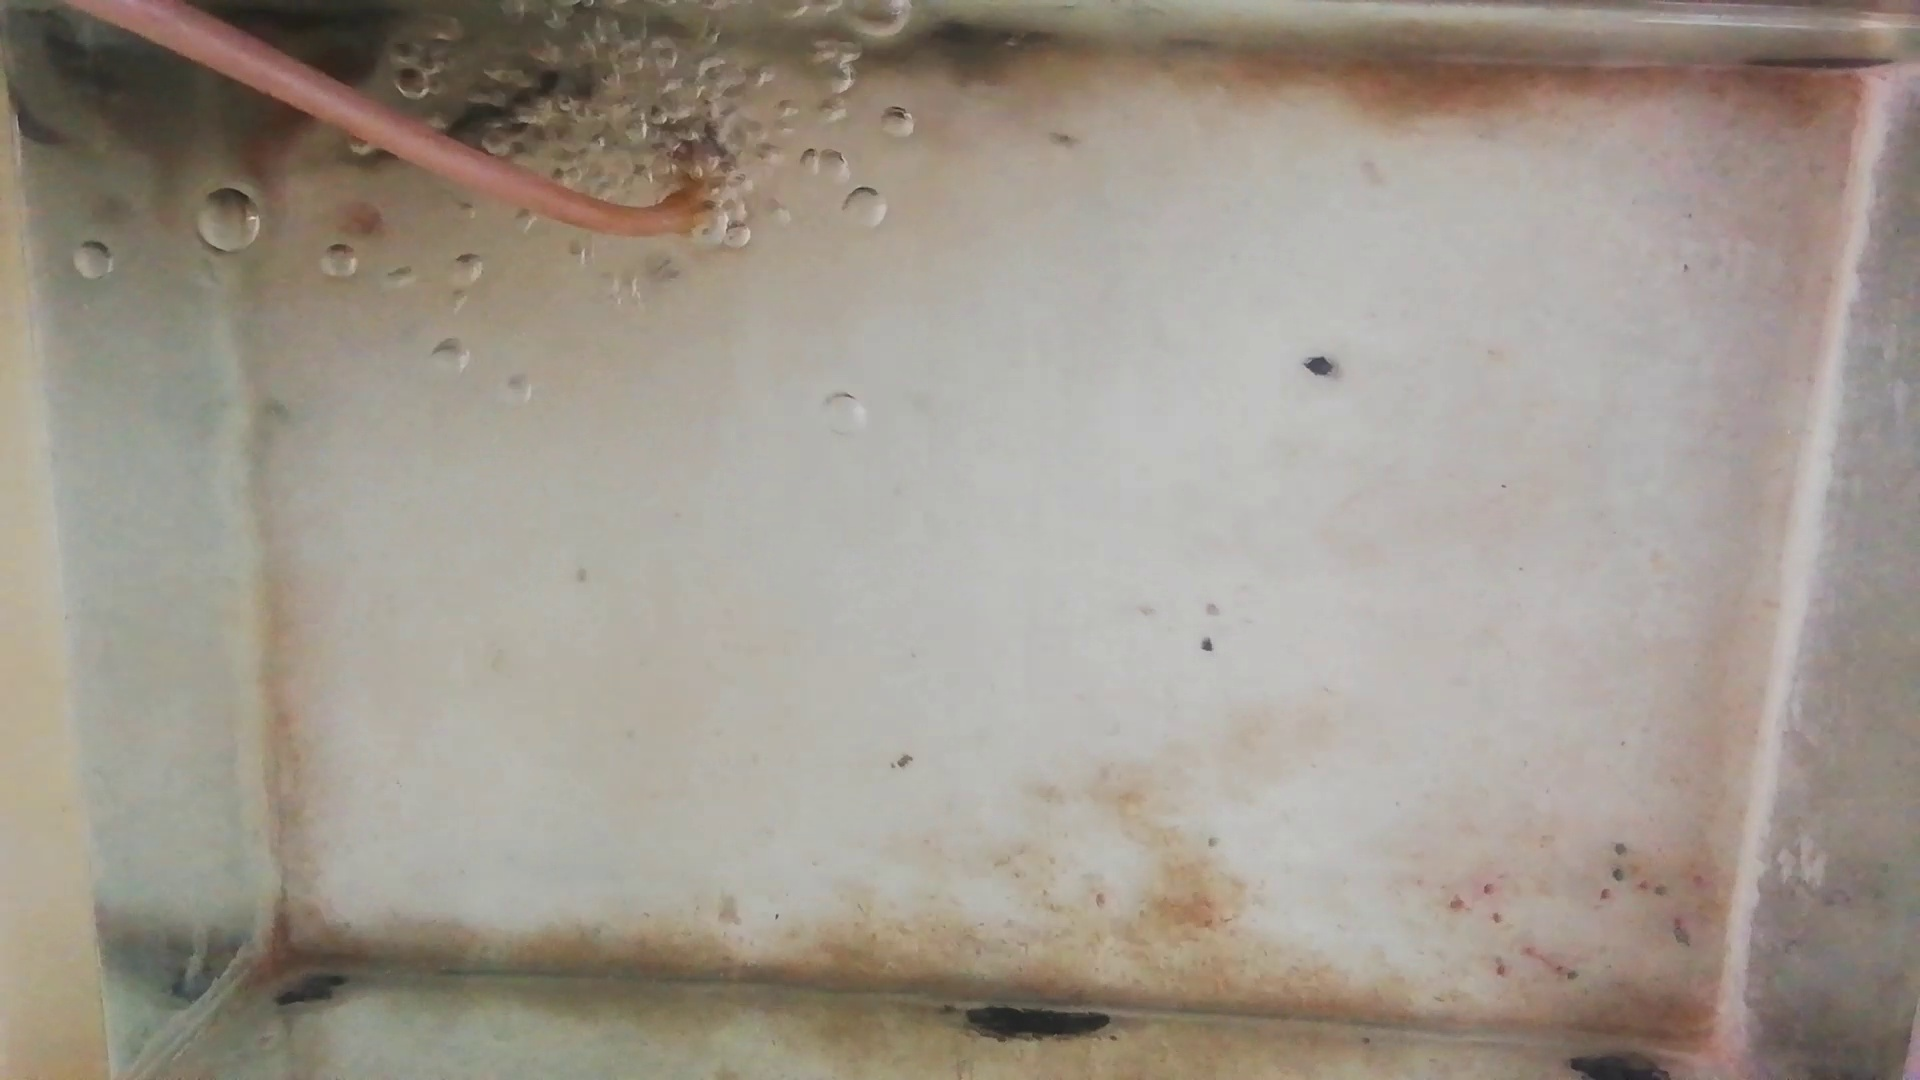fish: (251, 32, 373, 177), (425, 74, 591, 145)
